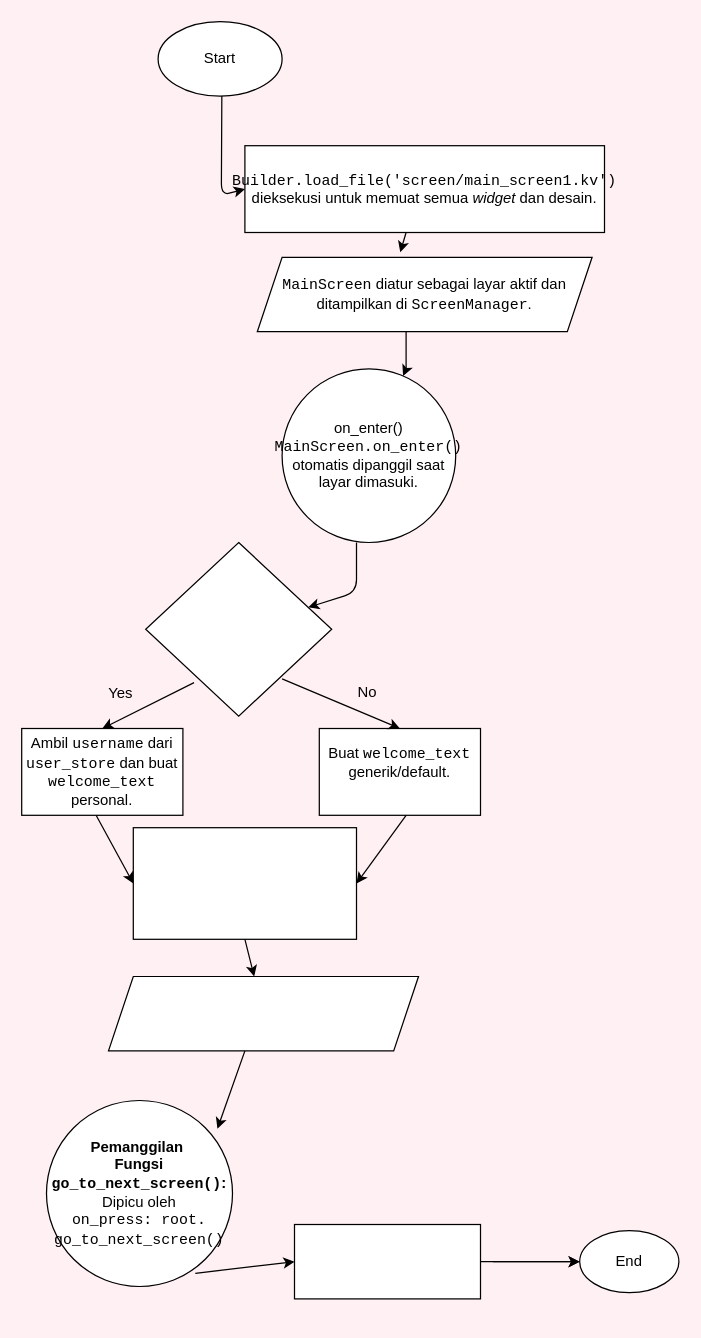
This 701x1338 diagram has some shape labels left out. The shapes that lost their labels are listed below. From the top down, each one's box as (x1, y1, x2, y2) in pixels, then its label:
(144, 541, 332, 716): Dilakukan pengecekan kondisi if user_store.exists ('user'): .
(132, 826, 356, 939): self.ids.main_label.text diperbarui dengan welcome_text yang sudah ditentukan.
(107, 975, 418, 1051): Menunggu Input: Layar menunggu pengguna menekan tombol 'Next' di antarmuka.
(293, 1223, 480, 1299): Pergantian Layar: Perintah self.manager.current = 'menu' dieksekusi.
